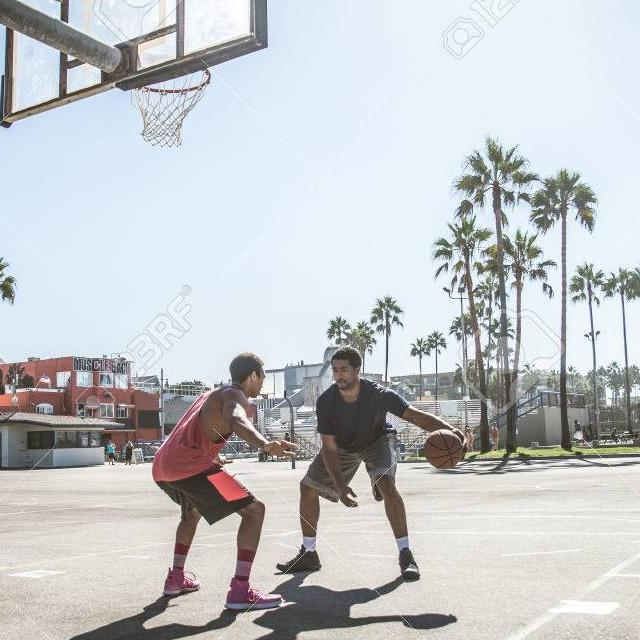basketball: (425, 426, 461, 470)
hoop: (130, 60, 210, 149)
